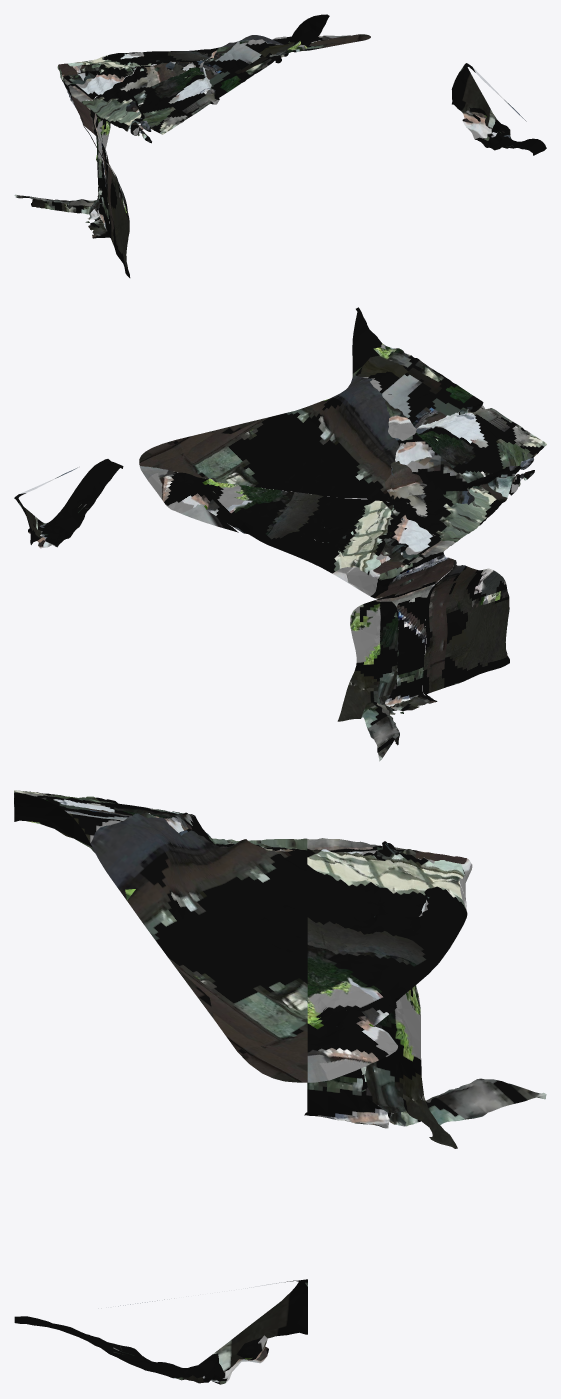
The picture shows the model from 3 angles, top to bottom: view 1: azimuth 30°, elevation 25°; view 2: azimuth 150°, elevation 25°; view 3: azimuth 270°, elevation 25°; orthographic projection. The views are drawn at different scales.
Parts seen in each view (by area): view 1: node_175; view 2: node_175; view 3: node_175.
Boxes of the visible parts, <box> form: node_175: <box>14,14,546,277</box>; node_175: <box>14,307,546,761</box>; node_175: <box>14,790,546,1384</box>.
Bounding box in the file's own units: 14.66 × 8.73 × 9.3.
Materials: 1 (1 with a texture image).
